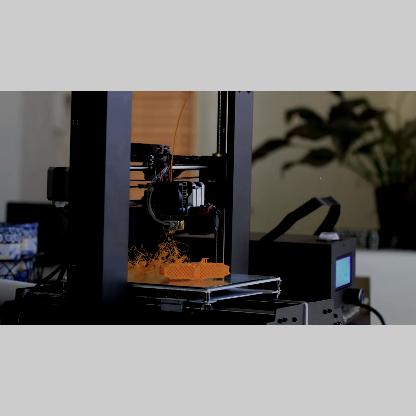fail: (129, 238, 189, 263)
